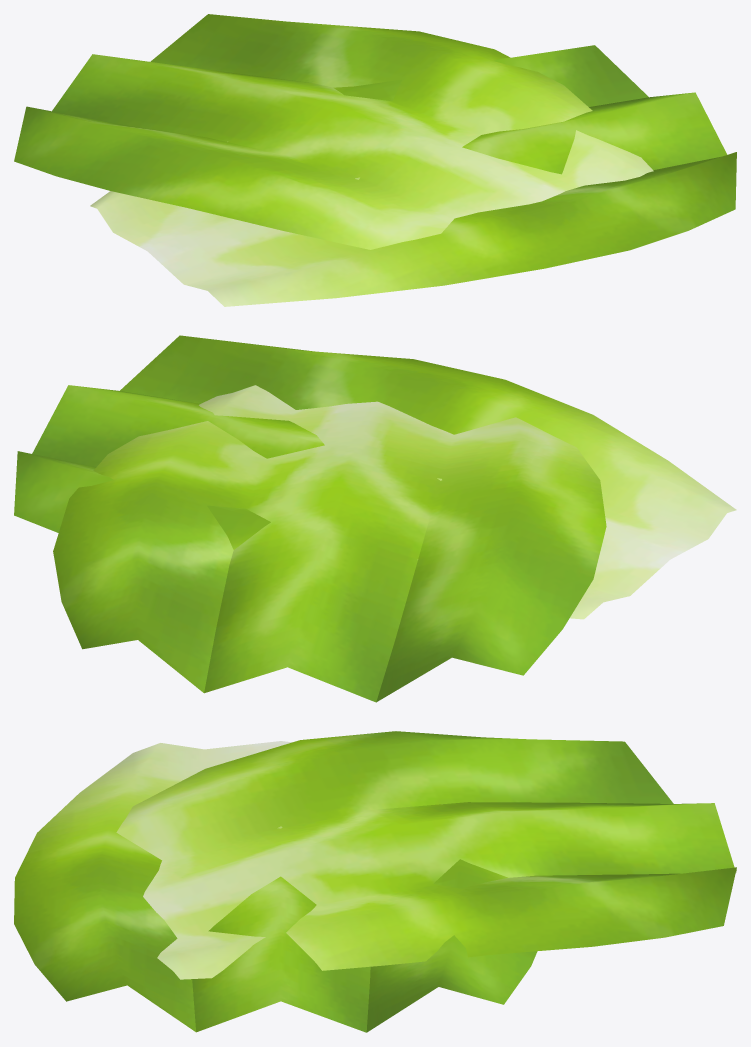
Rendered from Burger_Lettuce.fbx.
The picture shows the model from 3 angles, top to bottom: view 1: azimuth 30°, elevation 25°; view 2: azimuth 150°, elevation 25°; view 3: azimuth 270°, elevation 25°; orthographic projection. The views are drawn at different scales.
Parts seen in each view (by area): view 1: Burger_Lettuce; view 2: Burger_Lettuce; view 3: Burger_Lettuce.
Part boxes in pixels (left/top/right/bottom): Burger_Lettuce: left=14, top=14, right=736, bottom=306; Burger_Lettuce: left=14, top=335, right=736, bottom=702; Burger_Lettuce: left=14, top=731, right=736, bottom=1032.
Bounding box in the file's own units: 0.6311 × 0.0691 × 0.6705.
